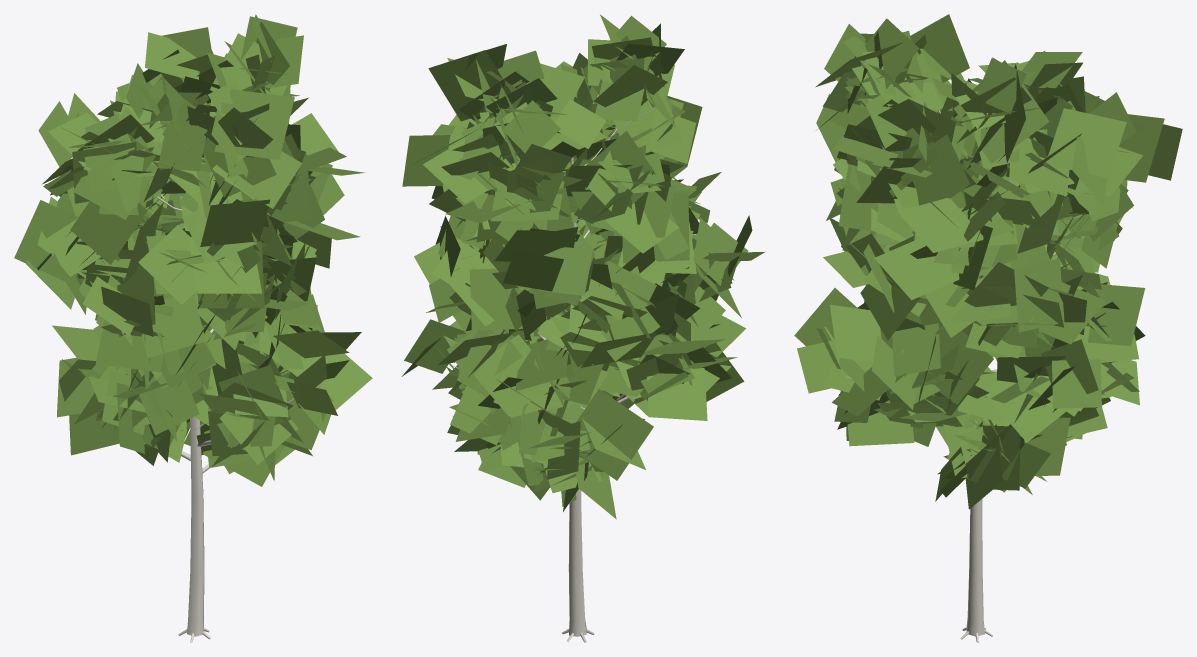
The model's file is birch-0-lod1.glb.
3 renders of one model, left to right at view 1: azimuth 30°, elevation 25°; view 2: azimuth 150°, elevation 25°; view 3: azimuth 270°, elevation 25°, orthographic. The views are drawn at different scales.
Visible parts, largest first — view 1: birch-0-lod1-foliage, birch-0-lod1-bark; view 2: birch-0-lod1-foliage, birch-0-lod1-bark; view 3: birch-0-lod1-foliage, birch-0-lod1-bark.
Part boxes in pixels (box(x1,y1,x2,y2)): birch-0-lod1-foliage: box(14, 14, 372, 486); birch-0-lod1-bark: box(156, 121, 322, 642); birch-0-lod1-foliage: box(401, 14, 765, 519); birch-0-lod1-bark: box(452, 94, 727, 642); birch-0-lod1-foliage: box(794, 14, 1182, 509); birch-0-lod1-bark: box(845, 65, 1061, 642).
Bounding box in the file's own units: 10.31 × 19.25 × 11.11.
